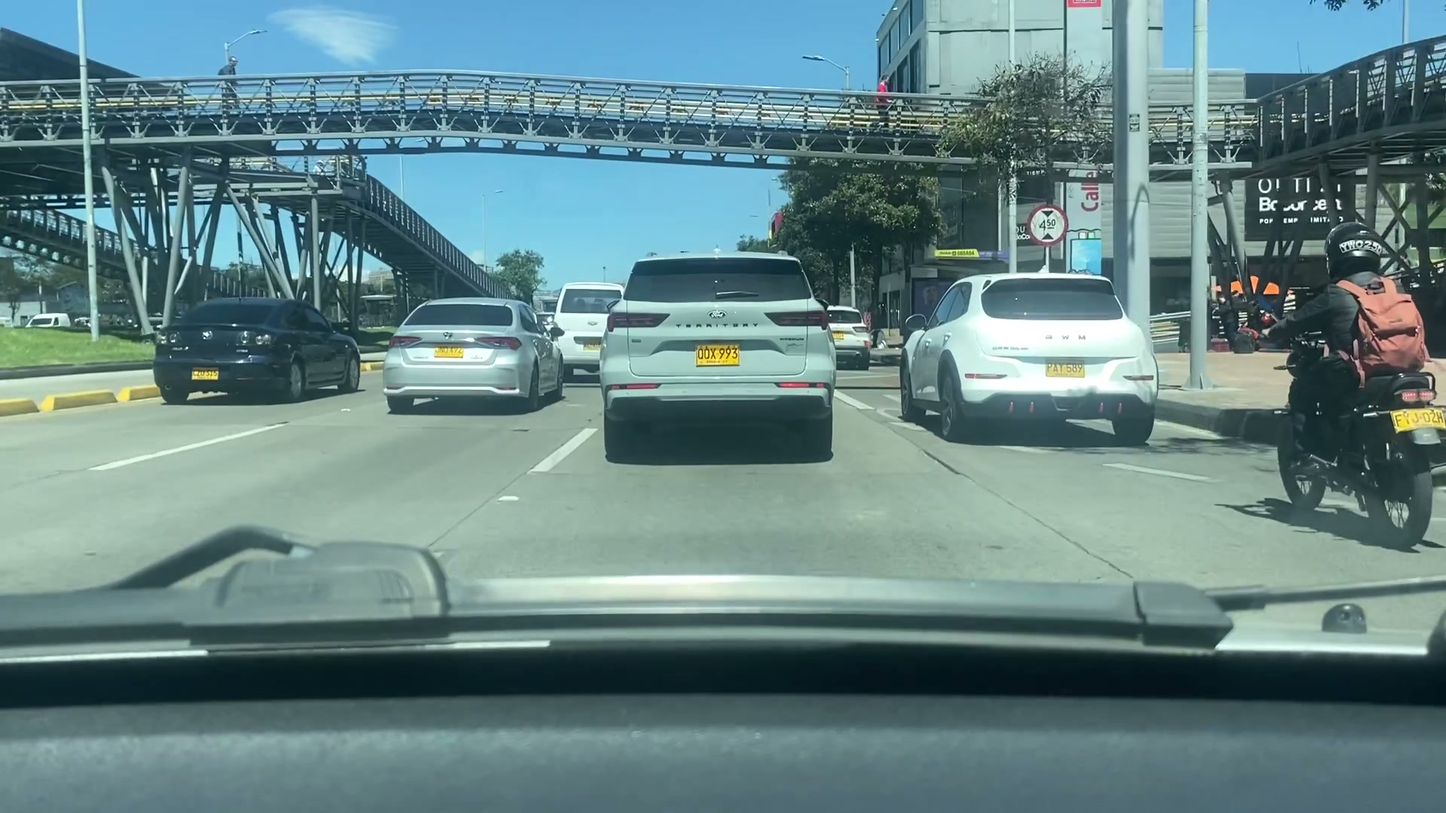car: (597, 252, 835, 458), (895, 272, 1157, 450), (152, 296, 363, 404), (379, 297, 565, 405), (551, 279, 630, 376), (819, 299, 876, 371)
motorcycle: (1244, 333, 1446, 550)
person: (1256, 218, 1436, 470)
